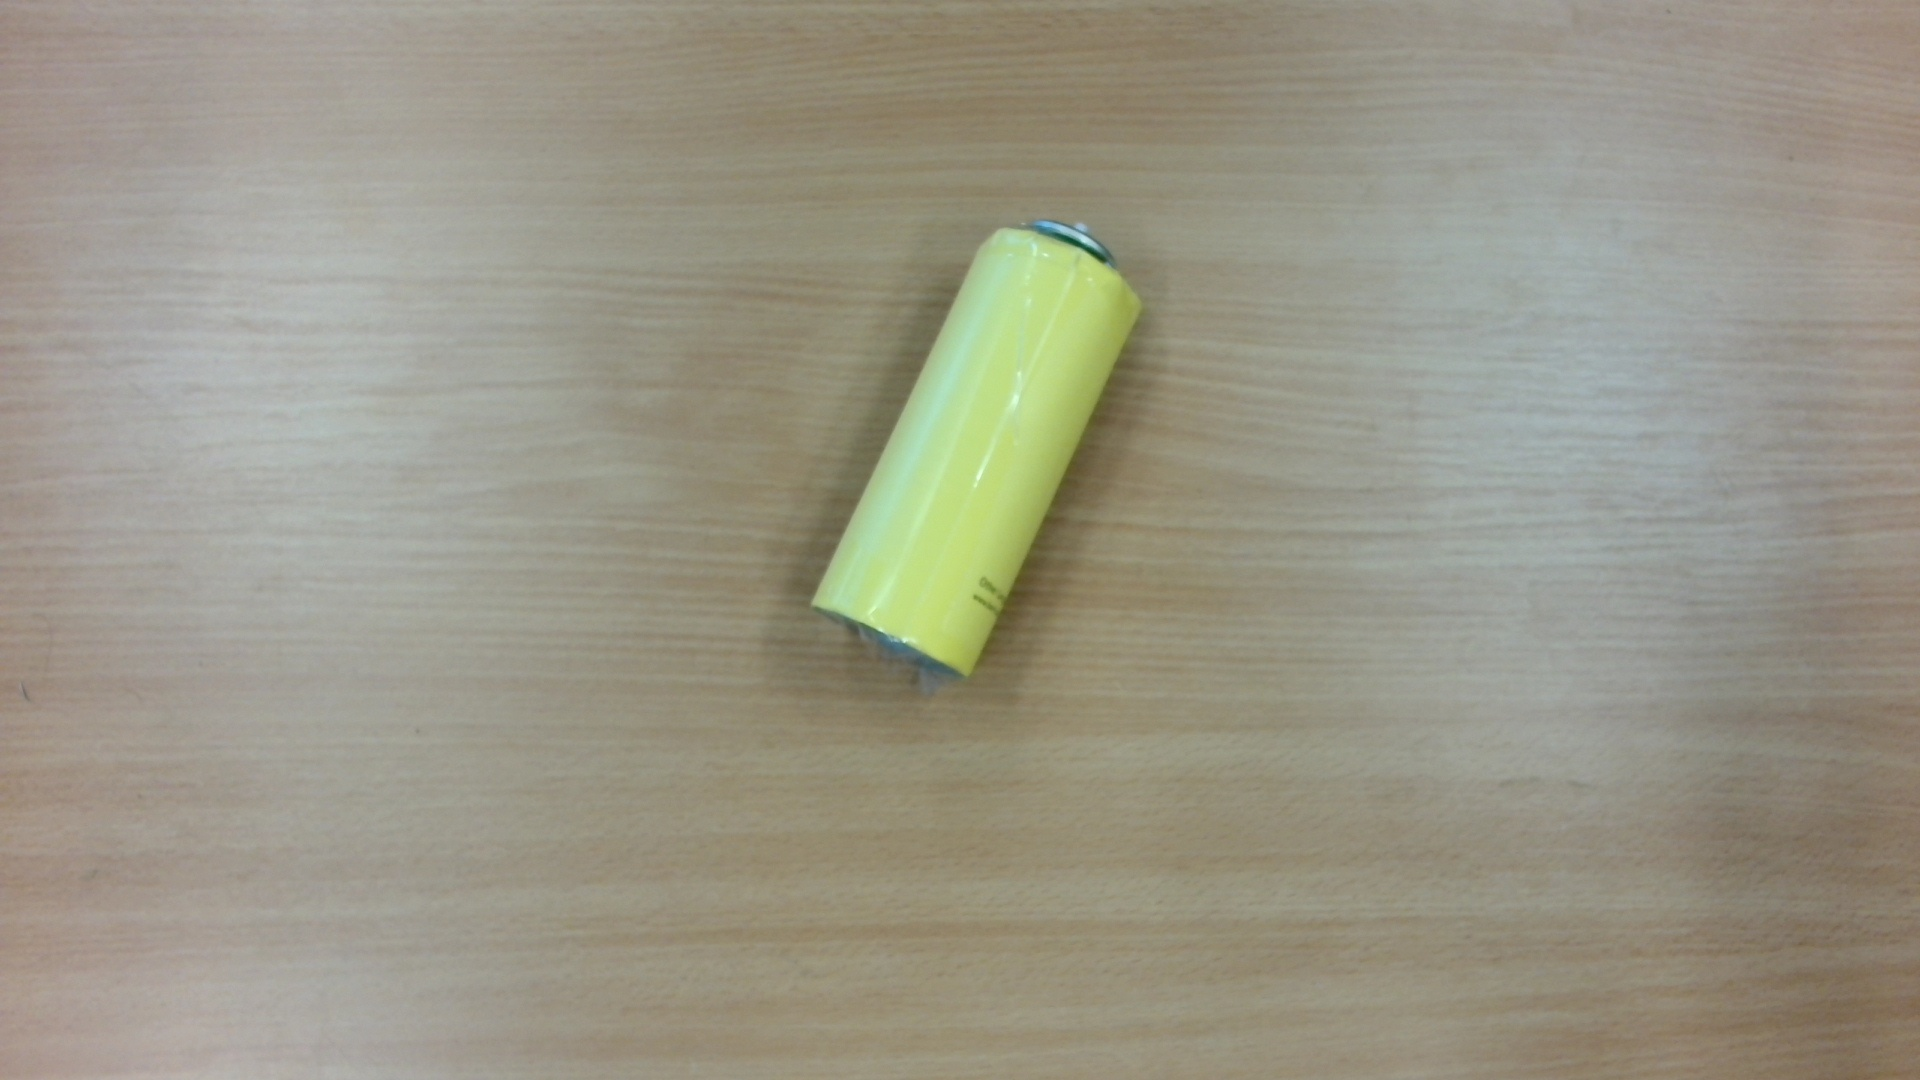Cylinder: (802, 204, 1156, 723)
